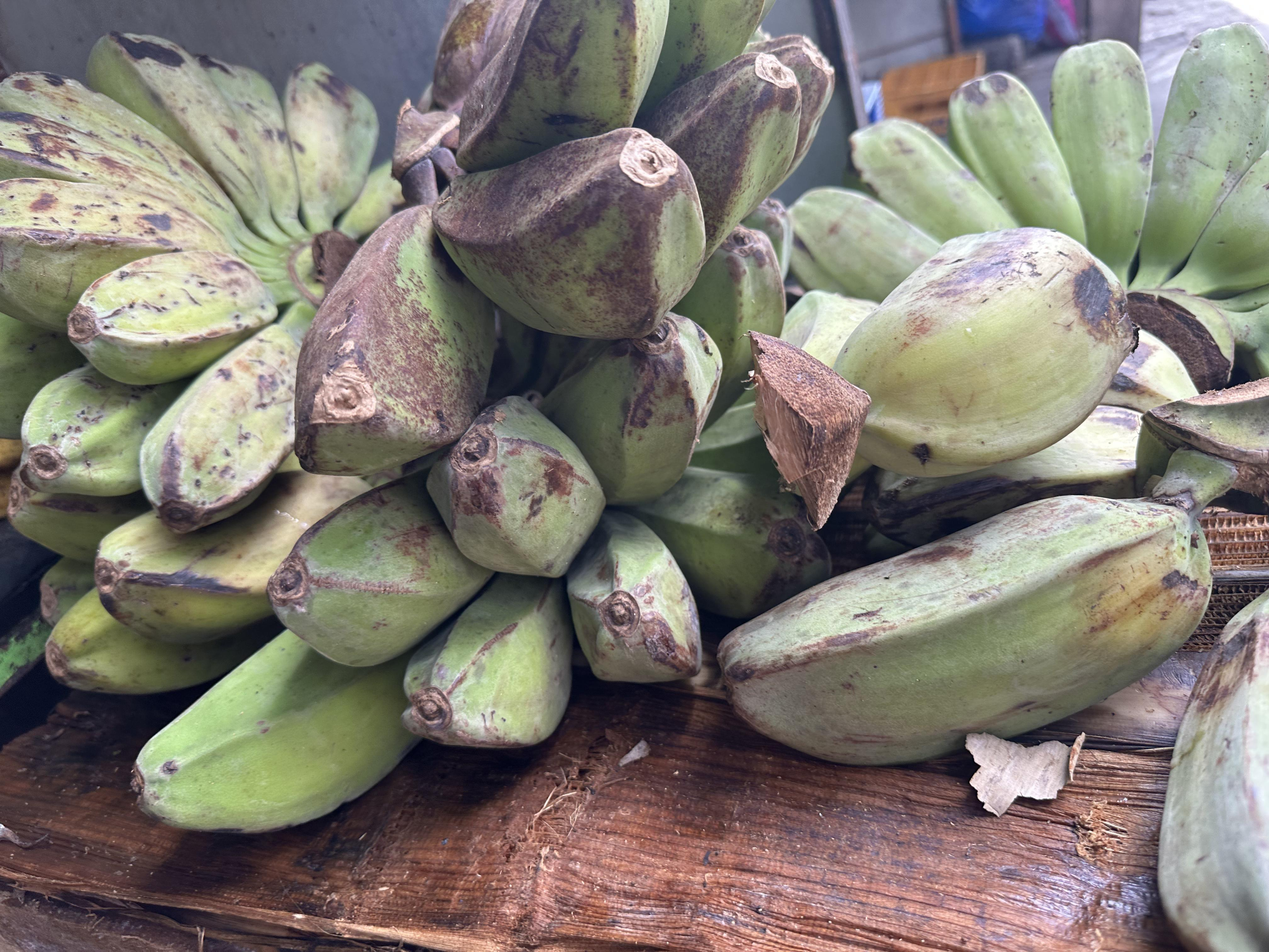underripe: (268, 198, 833, 749), (294, 0, 834, 476), (0, 30, 405, 534), (790, 23, 1269, 381)
